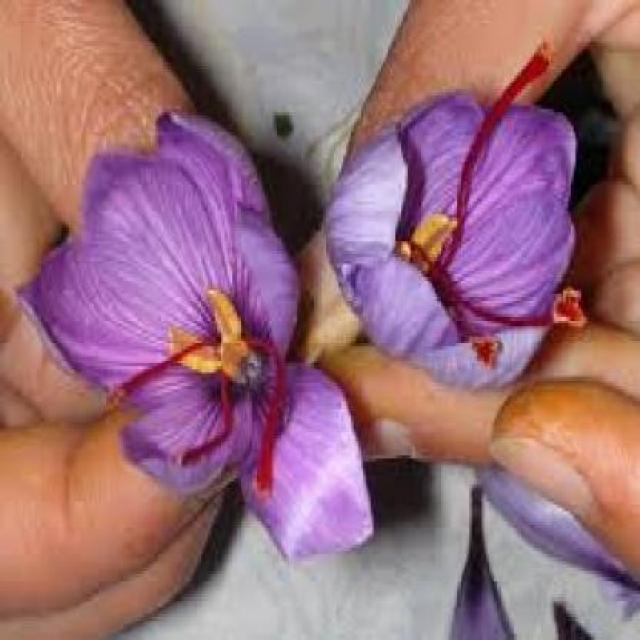saffron open: (22, 115, 372, 556), (327, 53, 575, 385)
